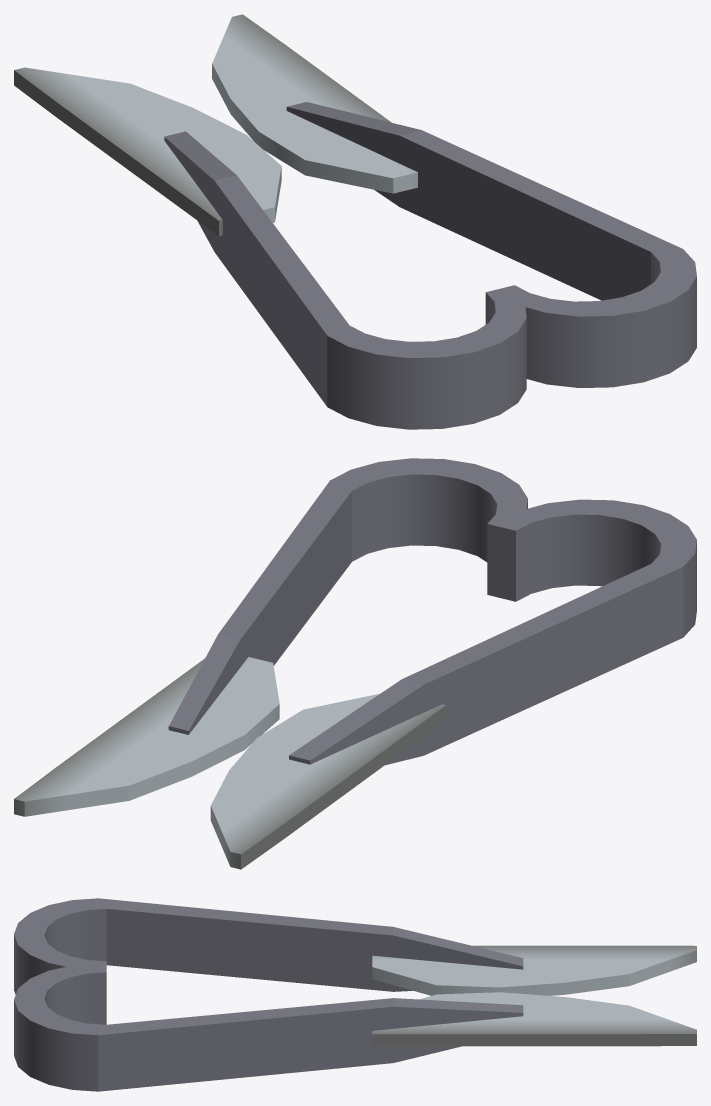
File: P_Shear_01_LD.fbx
3 views of the same model, one above another, from view 1: azimuth 30°, elevation 25°; view 2: azimuth 150°, elevation 25°; view 3: azimuth 270°, elevation 25° (orthographic). The views are drawn at different scales.
Parts seen in each view (by area): view 1: P_Shear_01; view 2: P_Shear_01; view 3: P_Shear_01.
Part boxes in pixels (x1,y1,x2,y2): P_Shear_01: [14, 14, 696, 429]; P_Shear_01: [14, 458, 696, 869]; P_Shear_01: [14, 898, 696, 1091].
Bounding box in the file's own units: 35.44 × 6.81 × 74.7.
1 material, 1 textured.
